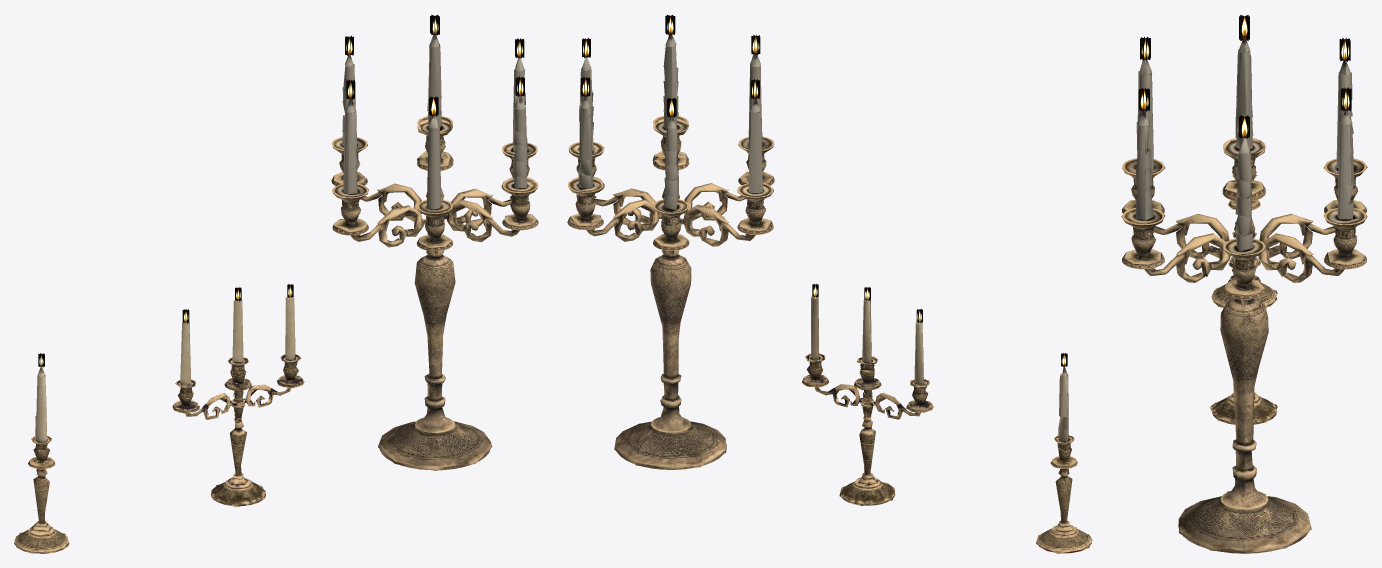
Rendered from brass_candleholders.glb.
3 views of the same model, side by side, from view 1: azimuth 30°, elevation 25°; view 2: azimuth 150°, elevation 25°; view 3: azimuth 270°, elevation 25° (orthographic). The views are drawn at different scales.
Parts seen in each view (by area): view 1: brass_candleholder_03, brass_candleholder_02, brass_candleholder_01; view 2: brass_candleholder_03, brass_candleholder_02, brass_candleholder_01; view 3: brass_candleholder_03, brass_candleholder_02, brass_candleholder_01.
Part boxes in pixels (x1,y1,x2,y2): brass_candleholder_03: [331, 14, 538, 470]; brass_candleholder_02: [172, 284, 304, 507]; brass_candleholder_01: [14, 353, 69, 553]; brass_candleholder_03: [567, 15, 774, 469]; brass_candleholder_02: [801, 284, 933, 506]; brass_candleholder_01: [1036, 353, 1092, 553]; brass_candleholder_03: [1121, 15, 1367, 553]; brass_candleholder_02: [1209, 231, 1277, 424]; brass_candleholder_01: [1211, 174, 1277, 308].
Size of the model in its own units: 1.06 by 0.8353 by 0.3664.
5 materials, 5 textured.
